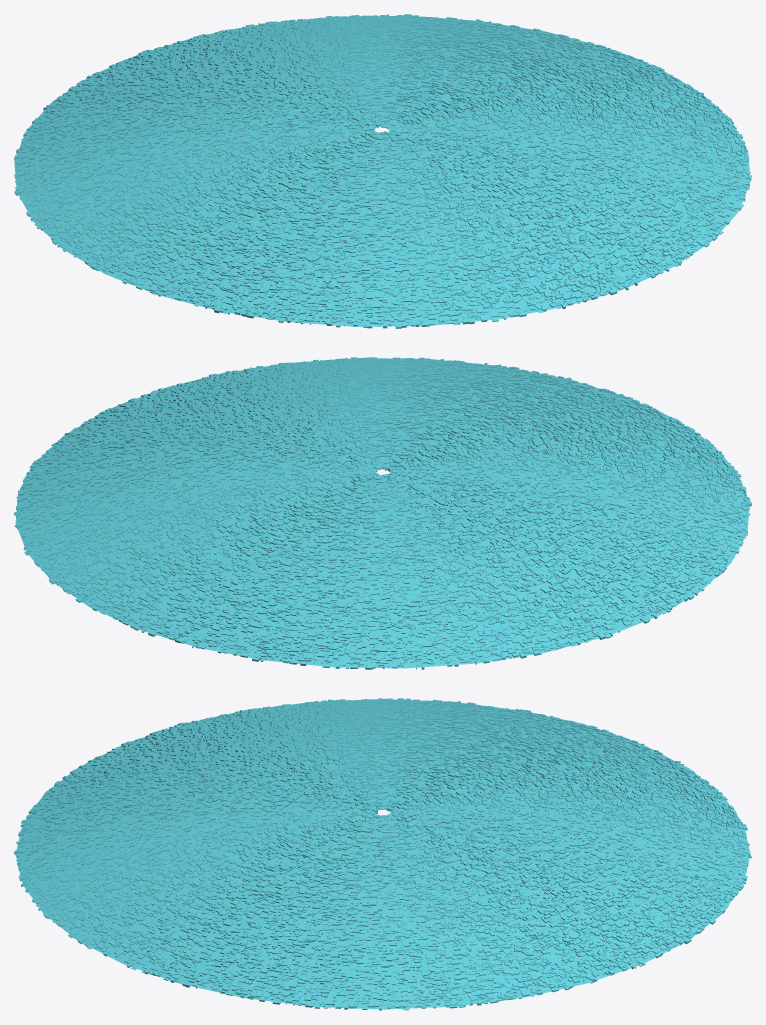
The model's file is LowerCity.fbx.
3 renders of one model, top to bottom at view 1: azimuth 30°, elevation 25°; view 2: azimuth 150°, elevation 25°; view 3: azimuth 270°, elevation 25°, orthographic.
Parts seen in each view (by area): view 1: Circle; view 2: Circle; view 3: Circle.
Boxes of the visible parts, left/top/right/bottom form: Circle: left=14, top=14, right=751, bottom=328; Circle: left=14, top=357, right=751, bottom=669; Circle: left=14, top=698, right=751, bottom=1010.
Bounding box in the file's own units: 430 × 28.62 × 431.
